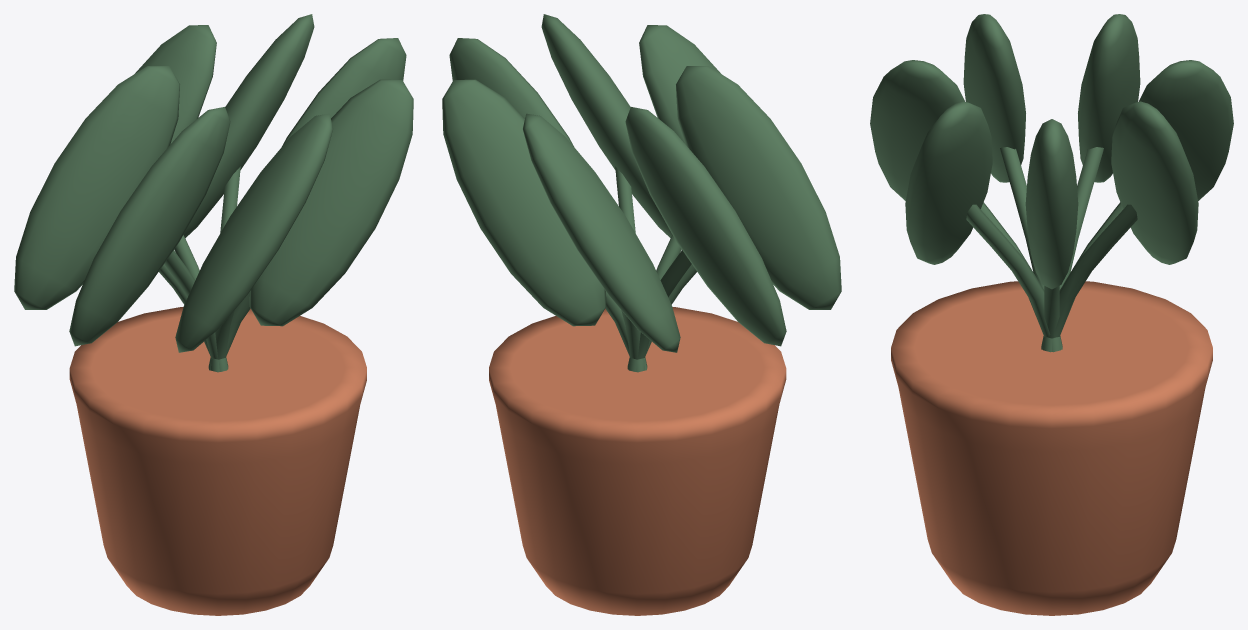
The model's file is plant.glb.
3 renders of one model, left to right at view 1: azimuth 30°, elevation 25°; view 2: azimuth 150°, elevation 25°; view 3: azimuth 270°, elevation 25°, orthographic. The views are drawn at different scales.
Parts seen in each view (by area): view 1: House_plant; view 2: House_plant; view 3: House_plant.
Boxes of the visible parts, <box> form: House_plant: <box>14,14,413,615</box>; House_plant: <box>442,14,841,615</box>; House_plant: <box>870,14,1233,615</box>.
Bounding box in the file's own units: 0.3104 × 0.406 × 0.2488.
